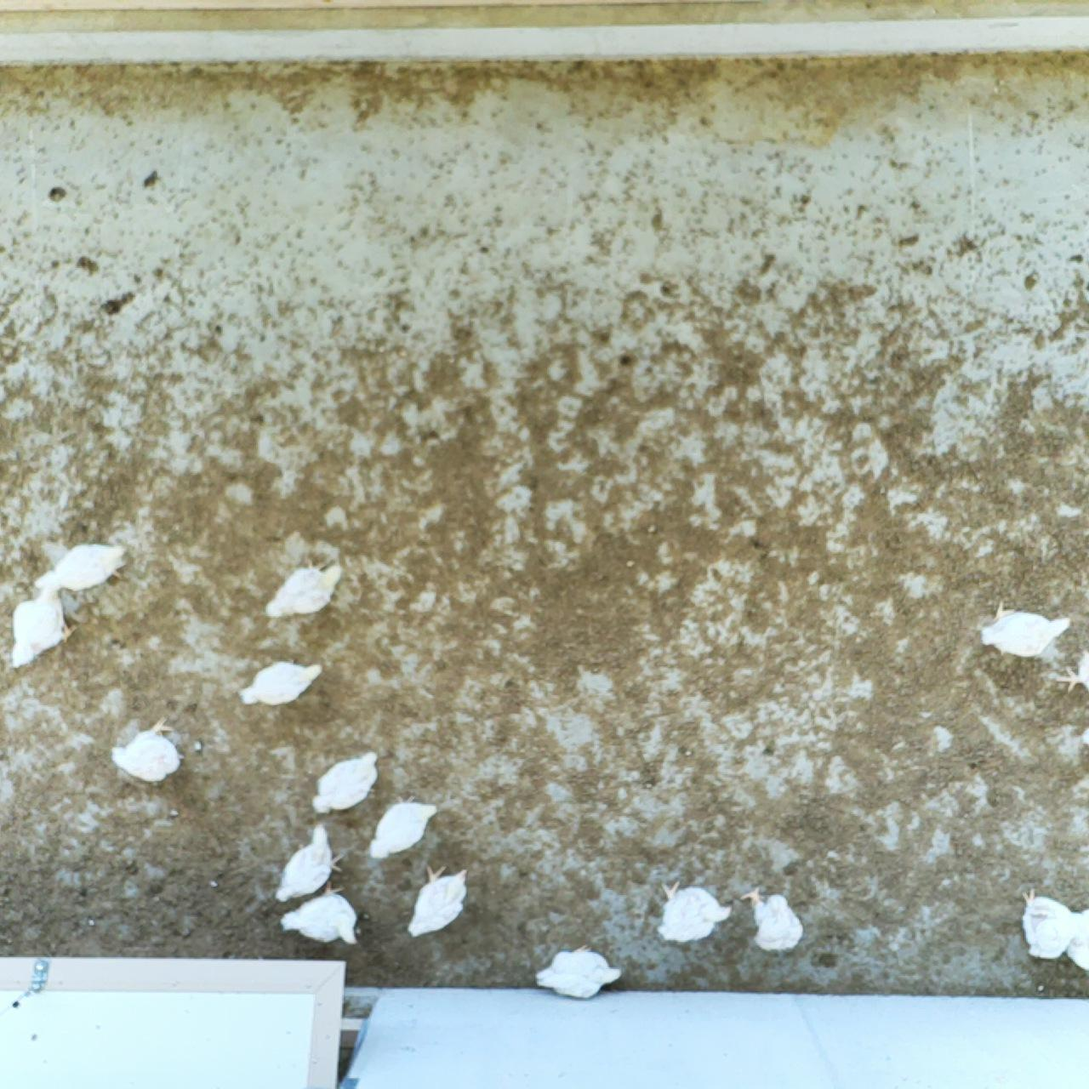chicken: (8, 580, 80, 674), (271, 820, 346, 905), (404, 861, 476, 944), (973, 599, 1072, 659), (278, 881, 363, 949), (261, 555, 346, 622), (33, 538, 133, 594), (653, 876, 734, 944), (367, 791, 442, 864), (108, 714, 185, 785), (533, 942, 625, 1000), (309, 749, 384, 819), (238, 655, 326, 711), (737, 884, 807, 954), (1016, 885, 1078, 963), (1051, 643, 1089, 699), (1062, 906, 1089, 975)
